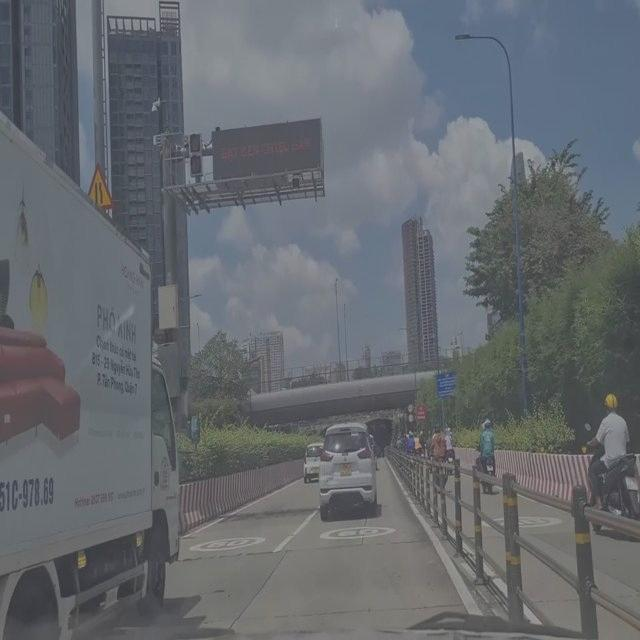Khác: (435, 369, 459, 396)
Đường hẹp: (80, 158, 115, 218)
